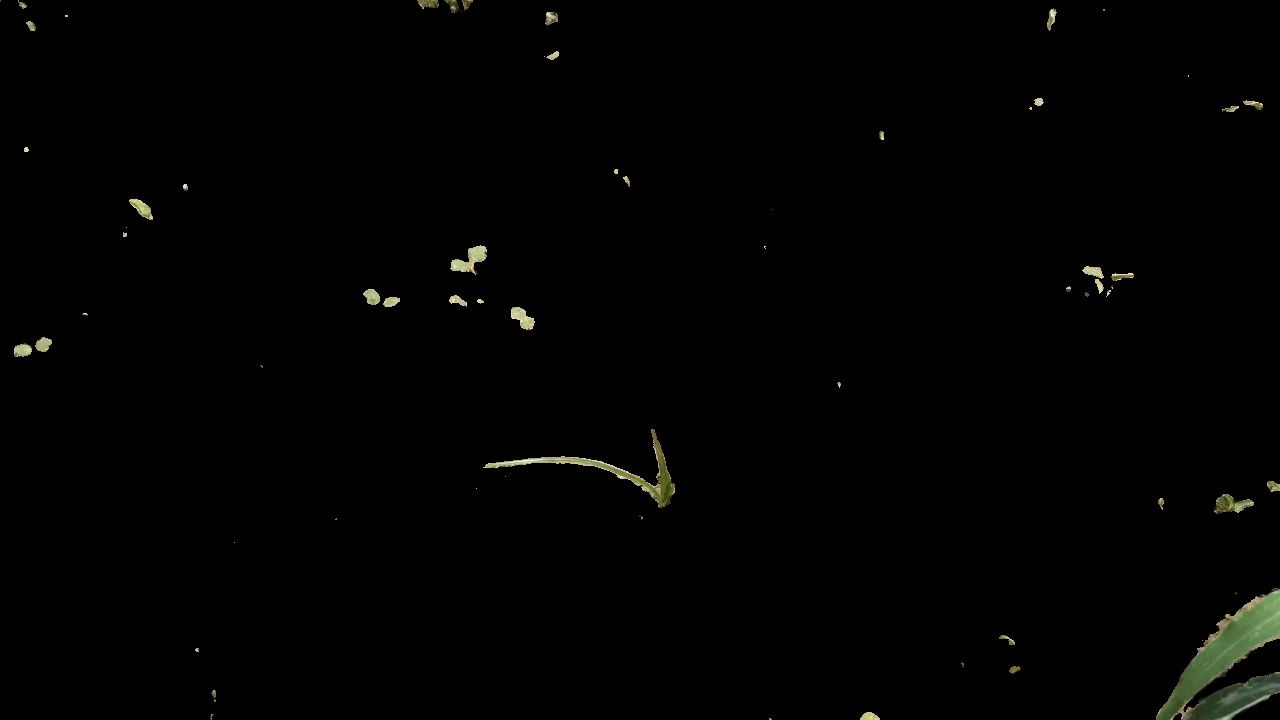crop: (1151, 578, 1280, 720)
weed: (469, 426, 695, 501), (1066, 254, 1133, 318), (9, 331, 56, 363), (124, 194, 163, 230), (453, 241, 488, 280), (351, 286, 403, 309), (1214, 487, 1253, 517), (512, 299, 540, 330)
